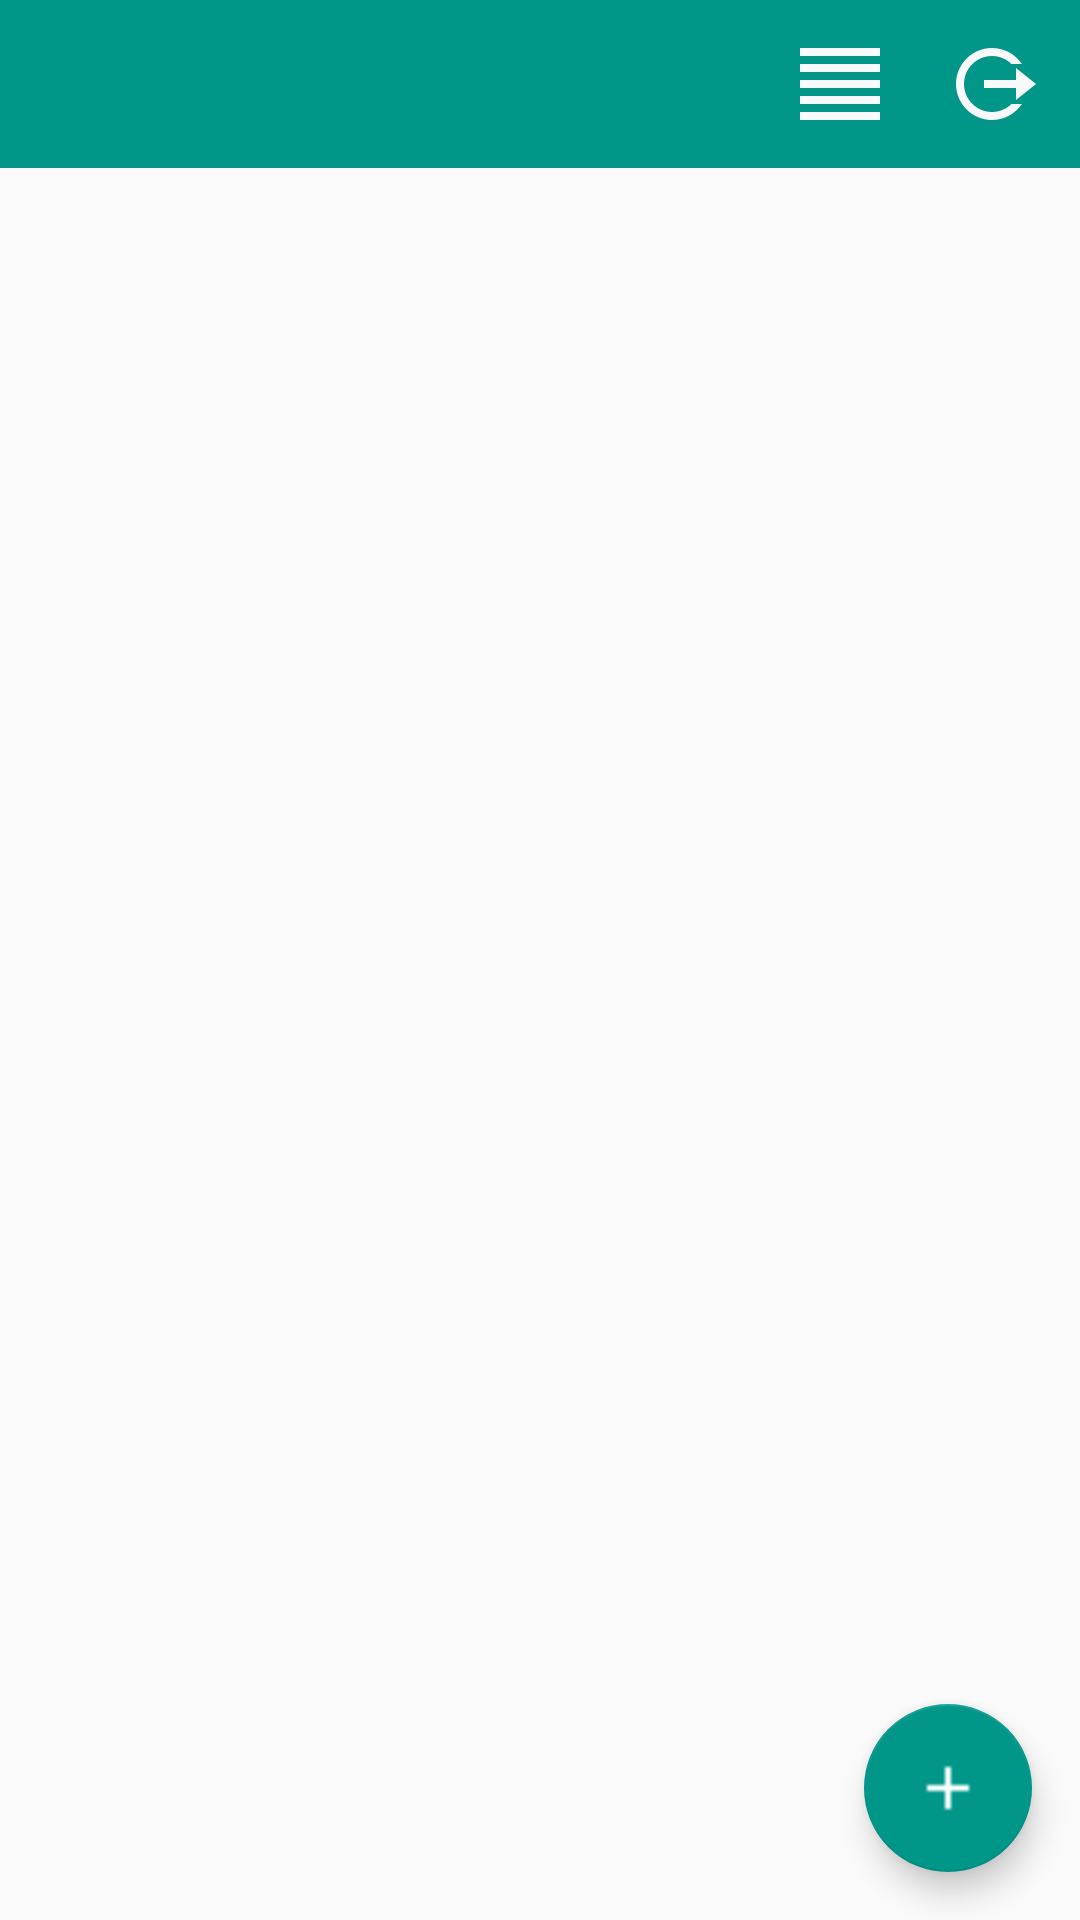

Point at icon controls on the screen. Image size 1080x1920, points as [x,y].
align: [840,84]
plus: [948,1788]
sign out: [996,84]
